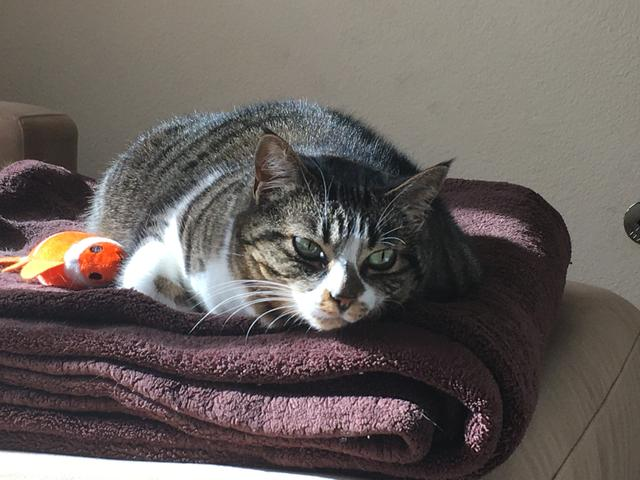clownfish: (1, 228, 126, 291)
playdoh: (86, 96, 485, 334)
